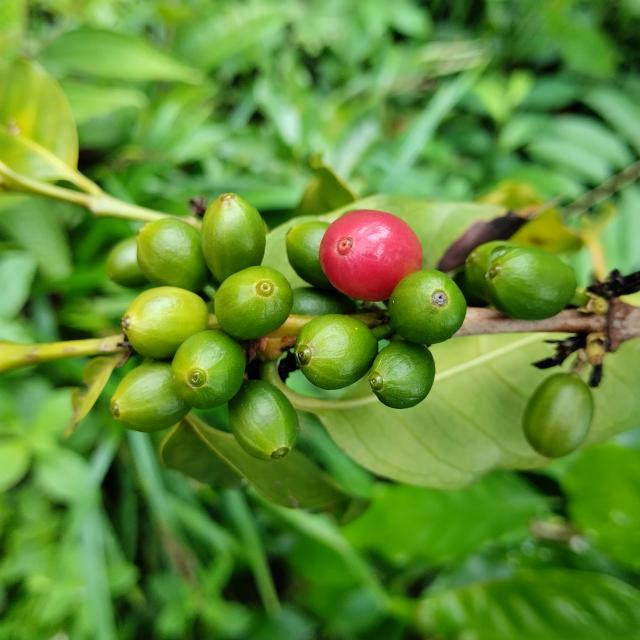green: (483, 246, 578, 320), (121, 286, 208, 359), (295, 314, 378, 390), (389, 270, 468, 345), (171, 330, 245, 410), (201, 192, 266, 283), (524, 374, 594, 458), (214, 266, 293, 340), (110, 361, 191, 433), (228, 380, 299, 461), (136, 218, 209, 292), (369, 340, 436, 409), (286, 221, 336, 291), (465, 240, 521, 302), (105, 237, 147, 287), (291, 287, 356, 316)
red: (319, 209, 423, 301)
